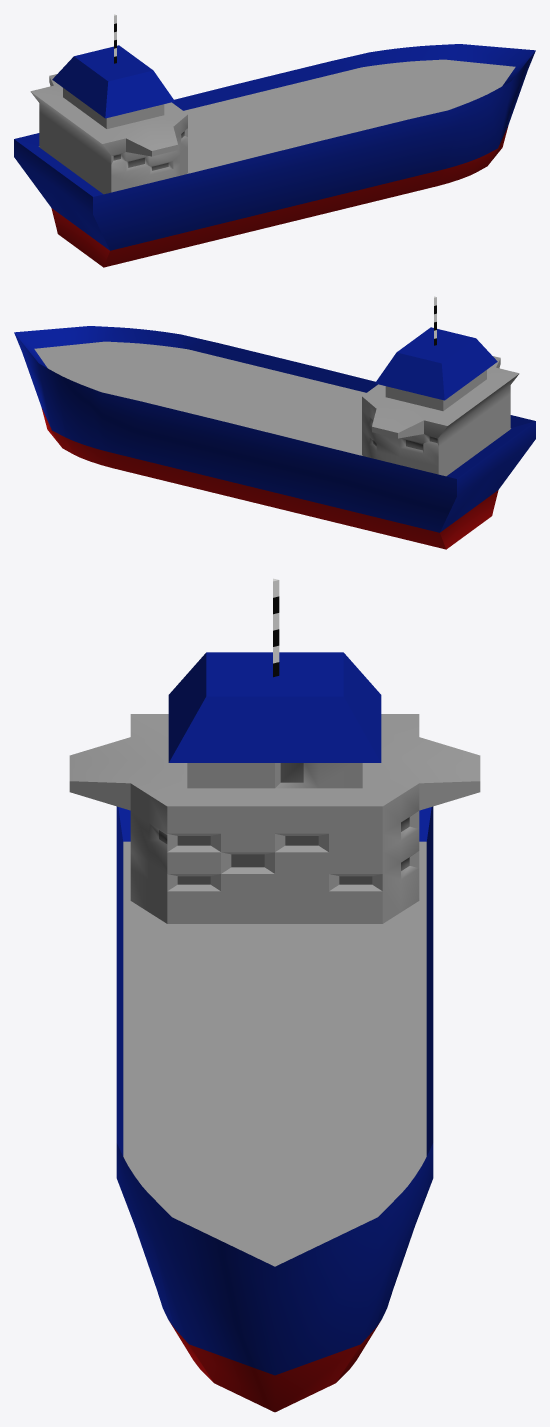
Rendered from cargo ship.fbx.
The picture shows the model from 3 angles, top to bottom: view 1: azimuth 30°, elevation 25°; view 2: azimuth 150°, elevation 25°; view 3: azimuth 270°, elevation 25°; orthographic projection. The views are drawn at different scales.
Parts seen in each view (by area): view 1: Cube, Cube.001; view 2: Cube, Cube.001; view 3: Cube, Cube.001.
Boxes of the visible parts, x1,y1,x2,y2 form: Cube: [14, 44, 535, 267]; Cube.001: [30, 45, 187, 194]; Cube: [14, 326, 535, 549]; Cube.001: [362, 327, 519, 476]; Cube: [116, 806, 433, 1412]; Cube.001: [69, 652, 480, 923].
Size of the model in its own units: 1633 by 735 by 602.
